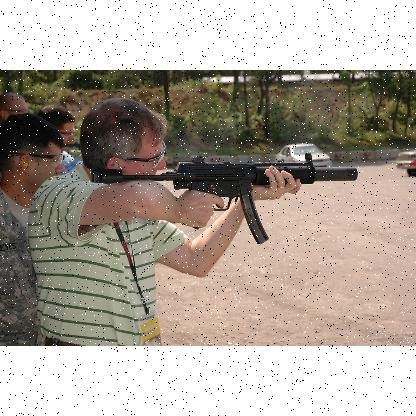gun: (92, 154, 356, 240), (62, 141, 80, 149)
